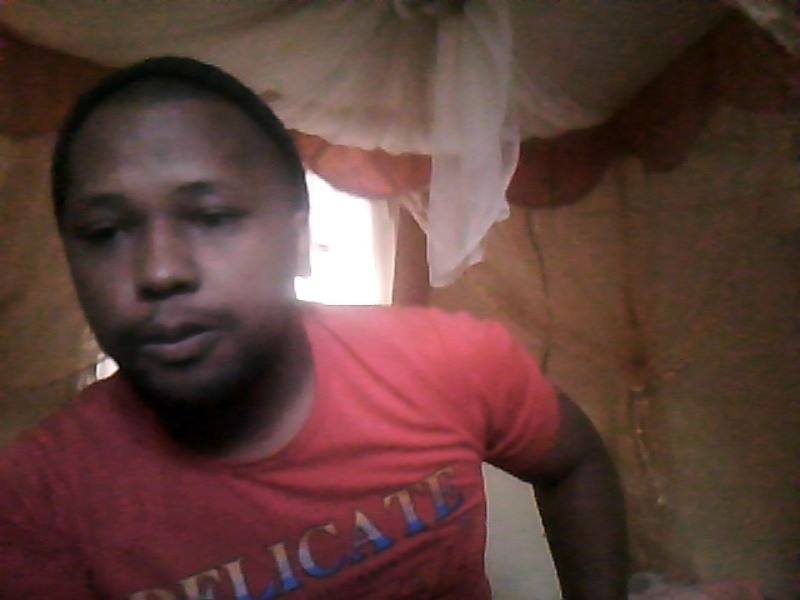TsisyArotava: (42, 63, 329, 435)
